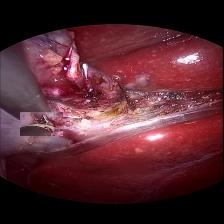Hook: (20, 111, 63, 135)
